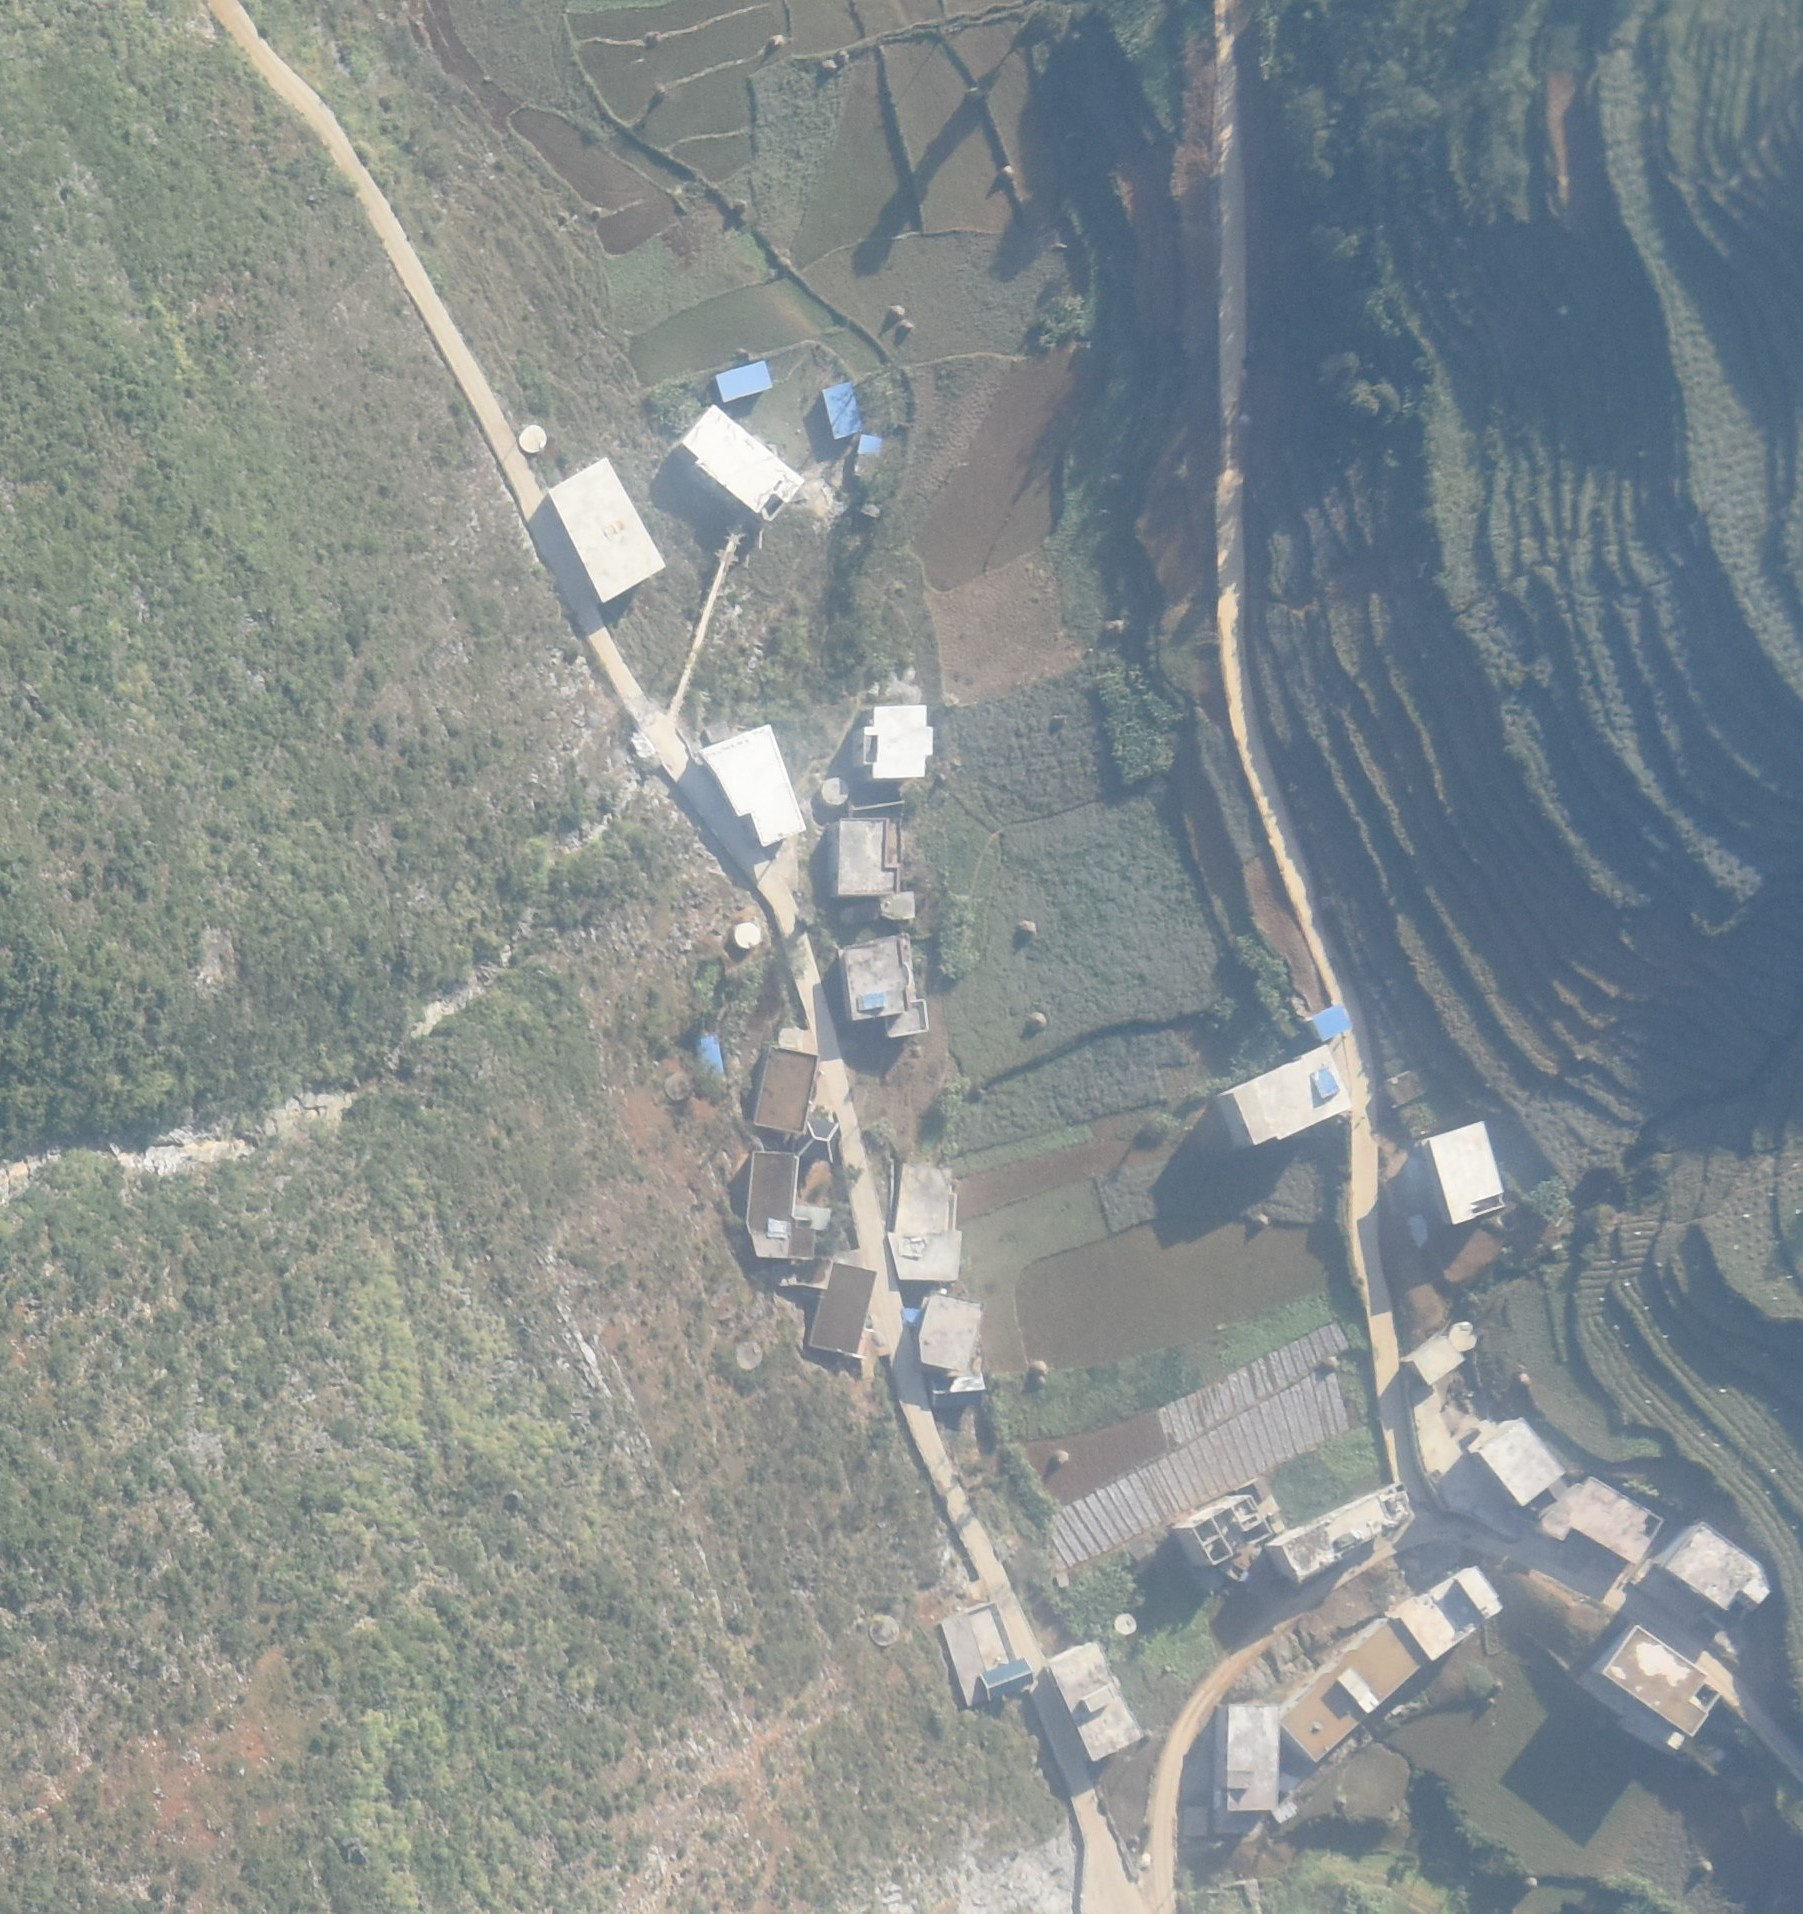building: (1283, 1567, 1503, 1763), (551, 457, 668, 605), (1600, 1626, 1718, 1751), (681, 405, 803, 522), (1264, 1484, 1413, 1579), (1218, 1043, 1349, 1145), (696, 725, 807, 845), (1047, 1640, 1140, 1760), (1545, 1474, 1666, 1563), (1667, 1521, 1771, 1611), (842, 933, 929, 1038), (888, 1164, 963, 1282), (1474, 1418, 1562, 1509), (1430, 1121, 1506, 1226), (837, 820, 917, 918), (746, 1152, 813, 1260), (1215, 1702, 1279, 1814), (807, 1260, 878, 1357), (920, 1292, 986, 1392), (1183, 1496, 1274, 1567), (751, 1047, 818, 1133), (863, 706, 934, 781), (1412, 1335, 1466, 1384), (978, 1657, 1034, 1702), (793, 1203, 830, 1231)
prefabricated-house: (715, 361, 773, 403), (822, 383, 863, 439), (1313, 1003, 1351, 1042), (698, 1033, 724, 1077), (856, 434, 879, 479)
well: (868, 1614, 901, 1646), (663, 1070, 693, 1103), (515, 423, 547, 452), (735, 1340, 764, 1370), (1449, 1321, 1479, 1350), (820, 777, 851, 805), (734, 921, 761, 949), (1113, 1611, 1139, 1636)
